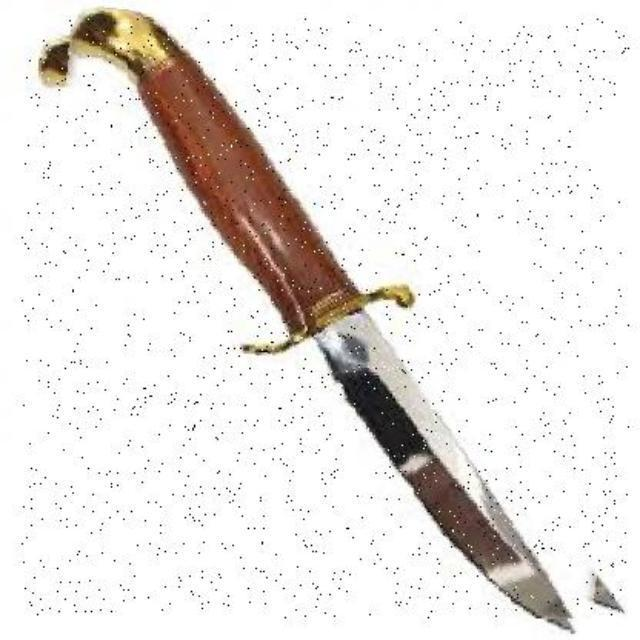Knife: (21, 19, 628, 619)
